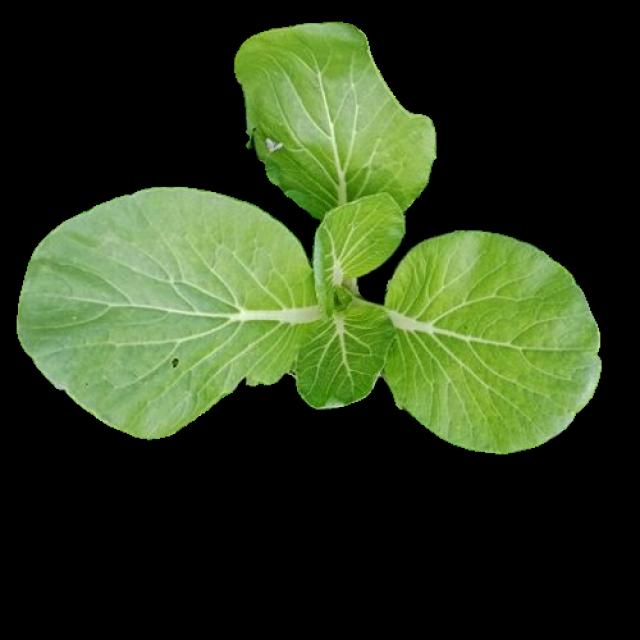not-mature: (17, 23, 594, 447)
unhealthy: (18, 187, 310, 436), (236, 23, 442, 218)
